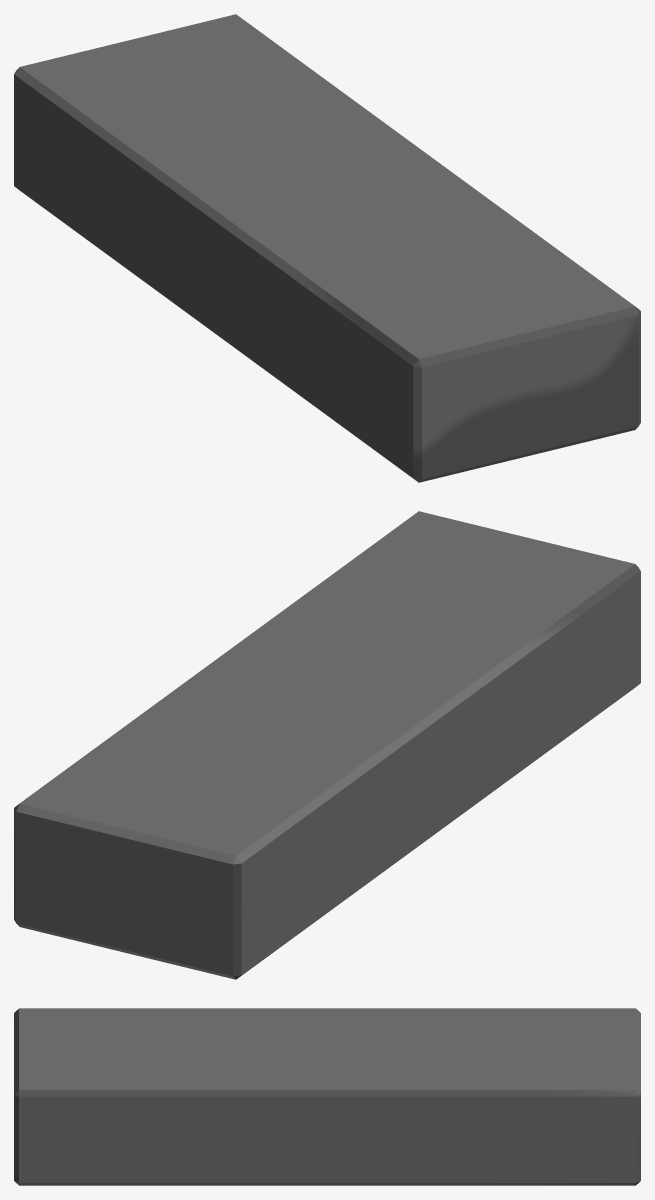
Rendered from brick_silver.glb.
The picture shows the model from 3 angles, top to bottom: view 1: azimuth 30°, elevation 25°; view 2: azimuth 150°, elevation 25°; view 3: azimuth 270°, elevation 25°; orthographic projection. The views are drawn at different scales.
Parts seen in each view (by area): view 1: silver; view 2: silver; view 3: silver.
Part boxes in pixels (x1,y1,x2,y2): silver: (14, 14, 640, 482); silver: (14, 511, 640, 979); silver: (14, 1008, 640, 1185).
Size of the model in its own units: 0.162 by 0.084 by 0.5.
Materials: 1 (1 with a texture image).
